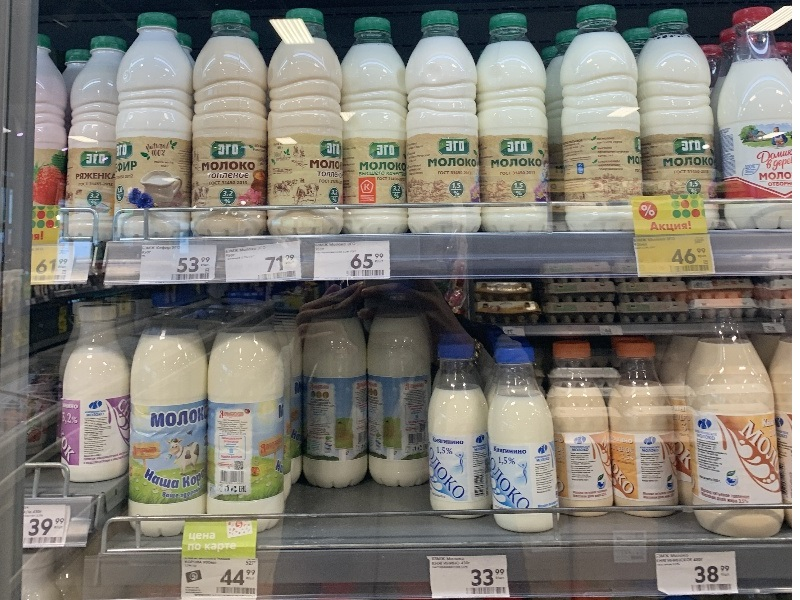milk: (669, 292, 788, 543), (120, 291, 220, 541), (256, 5, 353, 247), (554, 1, 652, 240), (101, 10, 200, 242), (181, 9, 278, 245), (472, 8, 561, 241), (203, 292, 286, 540), (401, 8, 486, 244), (335, 14, 419, 243), (633, 1, 724, 205), (482, 345, 573, 542), (601, 333, 686, 532), (415, 337, 501, 530), (719, 6, 791, 233), (542, 340, 622, 524)
